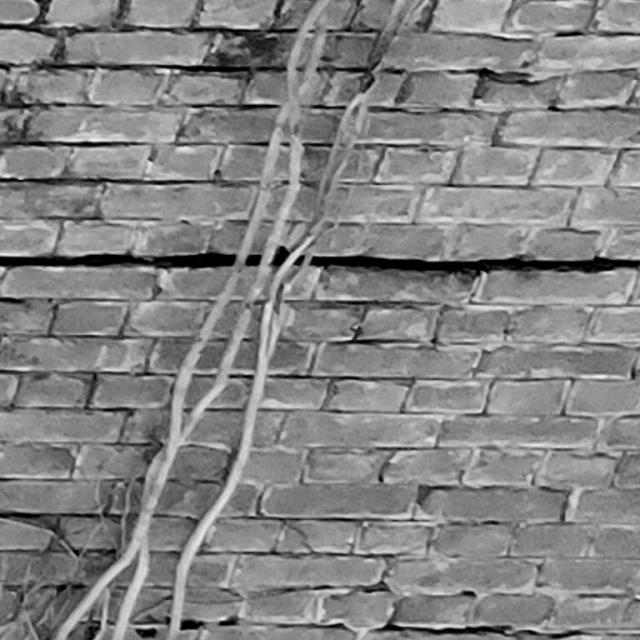crack: (1, 247, 640, 274), (377, 623, 588, 640)
